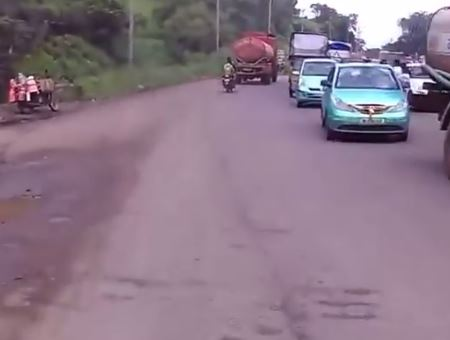car: (319, 58, 418, 146), (294, 52, 334, 111)
